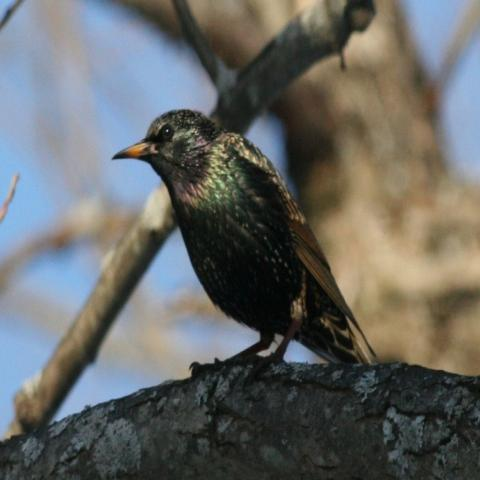bird: (109, 104, 378, 381)
